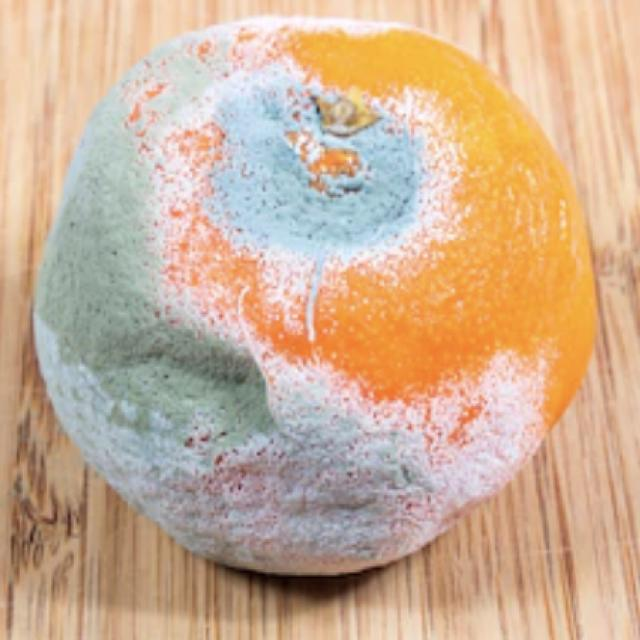rotten-orange: (31, 17, 595, 584)
